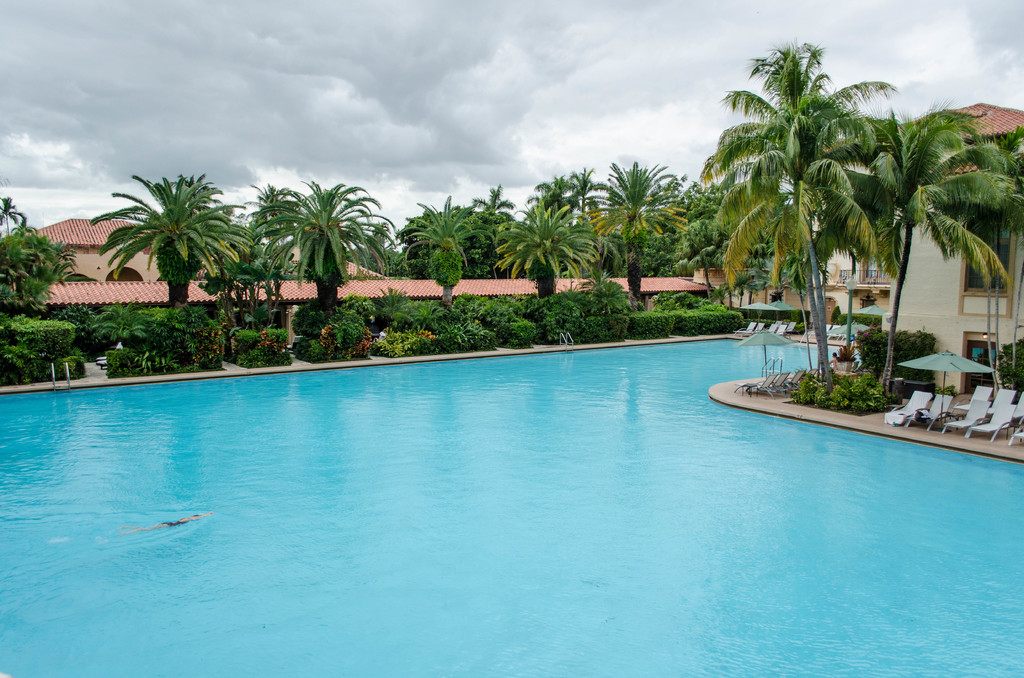Tree: (0, 35, 1023, 396)
